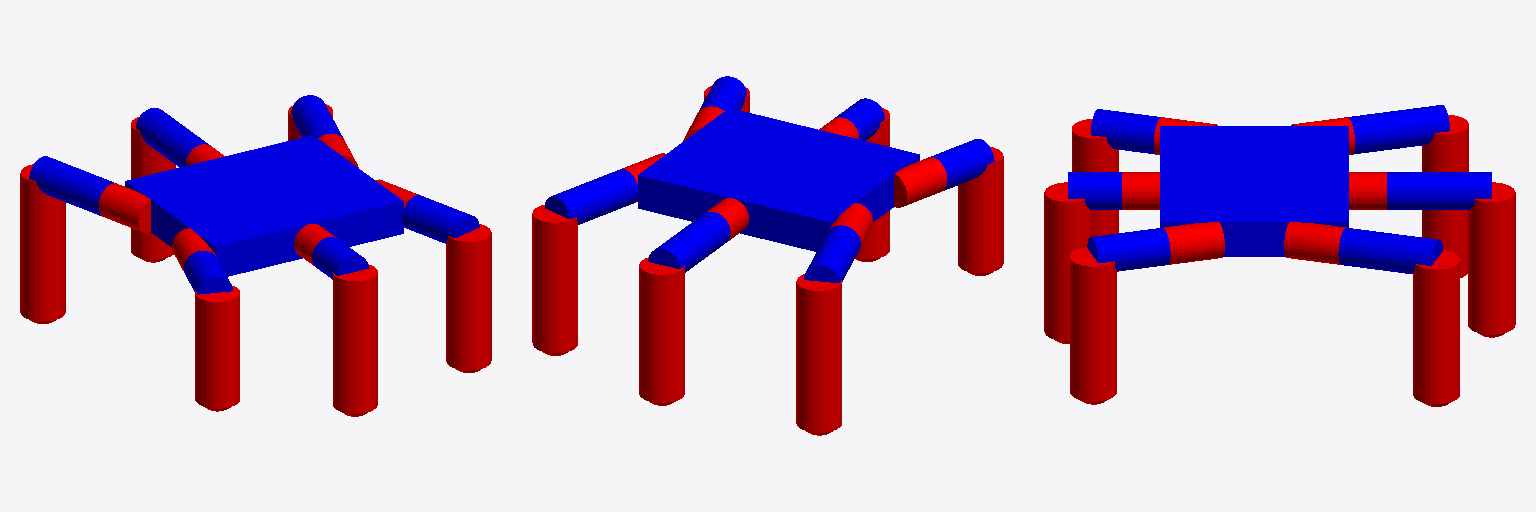
--- Facts derived from the render (not from the file) ---
The picture shows the robot from 3 angles, left to right: view 1: azimuth 30°, elevation 25°; view 2: azimuth 150°, elevation 25°; view 3: azimuth 270°, elevation 25°; orthographic projection.
Robot: pexod — 19 links, 18 joints (18 revolute); root link base_link; default pose: all joints at 0.
Visible links, largest first — view 1: base_link, leg_4_3, leg_3_3, leg_0_3, leg_5_3, leg_0_2, leg_3_2, leg_1_3, leg_1_2, leg_0_1, leg_4_2, leg_5_2 (+3 smaller); view 2: base_link, leg_0_3, leg_2_3, leg_1_3, leg_5_3, leg_2_2, leg_1_2, leg_0_2, leg_5_1, leg_5_2, leg_4_3, leg_4_2 (+3 smaller); view 3: base_link, leg_3_3, leg_2_3, leg_1_3, leg_4_3, leg_0_3, leg_1_2, leg_2_2, leg_0_2, leg_3_2, leg_5_3, leg_5_2 (+5 smaller).
Boxes of the visible links, x1=… form: base_link: x1=125, y1=135, x2=403, y2=276; leg_4_3: x1=333, y1=264, x2=377, y2=416; leg_3_3: x1=446, y1=224, x2=491, y2=372; leg_0_3: x1=20, y1=164, x2=65, y2=323; leg_5_3: x1=195, y1=286, x2=239, y2=411; leg_0_2: x1=29, y1=156, x2=116, y2=216; leg_3_2: x1=402, y1=195, x2=479, y2=243; leg_1_3: x1=131, y1=117, x2=175, y2=262; leg_1_2: x1=136, y1=108, x2=210, y2=167; leg_0_1: x1=99, y1=183, x2=150, y2=232; leg_4_2: x1=312, y1=237, x2=368, y2=279; leg_5_2: x1=184, y1=251, x2=232, y2=294; base_link: x1=638, y1=108, x2=919, y2=251; leg_0_3: x1=796, y1=274, x2=841, y2=435; leg_2_3: x1=532, y1=205, x2=577, y2=355; leg_1_3: x1=639, y1=257, x2=684, y2=405; leg_5_3: x1=958, y1=147, x2=1003, y2=275; leg_2_2: x1=545, y1=169, x2=638, y2=224; leg_1_2: x1=648, y1=212, x2=730, y2=272; leg_0_2: x1=804, y1=225, x2=860, y2=282; leg_5_1: x1=894, y1=157, x2=947, y2=207; leg_5_2: x1=928, y1=139, x2=994, y2=190; leg_4_3: x1=855, y1=107, x2=889, y2=261; leg_4_2: x1=835, y1=98, x2=884, y2=140; base_link: x1=1160, y1=126, x2=1348, y2=256; leg_3_3: x1=1070, y1=247, x2=1116, y2=404; leg_2_3: x1=1413, y1=250, x2=1459, y2=406; leg_1_3: x1=1468, y1=182, x2=1515, y2=337; leg_4_3: x1=1044, y1=182, x2=1091, y2=343; leg_0_3: x1=1422, y1=115, x2=1468, y2=277; leg_1_2: x1=1387, y1=172, x2=1491, y2=209; leg_2_2: x1=1338, y1=228, x2=1442, y2=273; leg_0_2: x1=1348, y1=105, x2=1449, y2=154; leg_3_2: x1=1087, y1=228, x2=1170, y2=271; leg_5_3: x1=1072, y1=119, x2=1118, y2=236; leg_5_2: x1=1091, y1=109, x2=1160, y2=154.
Bounding box of the posed robot: 0.3866 × 0.4965 × 0.2026 m (x, y, z).
Geometry: primitives only (box / cylinder / sphere), no mesh files.

robot.urdf — pexod:
<?xml version="1.0" ?>
<!-- =================================================================================== -->
<!-- |    This document was autogenerated by xacro from pexod.xacro                    | -->
<!-- |    EDITING THIS FILE BY HAND IS NOT RECOMMENDED                                 | -->
<!-- =================================================================================== -->
<robot name="pexod" xmlns:xacro="http://www.ros.org/wiki/xacro">
  <!-- <xacro:include filename="$(find pexod_description)/urdf/pexod_control.xacro" /> -->
  <!-- MATERIALS -->
  <material name="Blue">
    <color rgba="0 0 1 1"/>
  </material>
  <material name="Red">
    <color rgba="1 0 0 1"/>
  </material>
  <material name="Green">
    <color rgba="0 1 0 1"/>
  </material>
  <material name="Yellow">
    <color rgba="1 1 0 1"/>
  </material>
  <material name="LightGrey">
    <color rgba="0.6 0.6 0.6 1.0"/>
  </material>
  <!-- END OF MATERIALS -->
  <!-- XACRO MACROS FOR VISUALS AND COLLISIONS -->
  <!-- END OF XACRO MACROS -->
  <!-- TORSO -->
  <link name="base_link">
    <visual>
      <origin rpy="0 0 0" xyz="0 0 0"/>
      <geometry>
        <box size="0.24 0.2 0.04"/>
      </geometry>
      <material name="Blue"/>
    </visual>
    <collision>
      <origin rpy="0 0 0" xyz="0 0 0"/>
      <geometry>
        <box size="0.24 0.2 0.04"/>
      </geometry>
    </collision>
    <inertial>
      <!-- CENTER OF MASS -->
      <origin rpy="0 0 0" xyz="0 0 0"/>
      <mass value="1.031"/>
      <!-- box inertia: 1/12*m(y^2+z^2), ... -->
      <inertia ixx="0.00357413333333" ixy="0" ixz="0" iyy="0.00508626666667" iyz="0" izz="0.00838546666667"/>
    </inertial>
  </link>
  <!-- XACRO MACRO FOR LEGS LINKS/JOINTS -->
  <!-- END OF LEG LINKS/JOINTS -->
  <joint name="body_leg_2" type="revolute">
    <parent link="base_link"/>
    <child link="leg_2_1"/>
    <limit effort="30.0" lower="-1.57079632679" upper="1.57079632679" velocity="7.0"/>
    <origin rpy="0 0 -0.3" xyz="0.11 0.04 0"/>
    <!-- <xacro:if value="${index == 5 or index == 4 or index == 3}">
                <axis xyz="0 0 1"/>
            </xacro:if>
            <xacro:if value="${index == 2 or index == 1 or index == 0}"> -->
    <axis xyz="0 0 1"/>
    <!-- </xacro:if> -->
    <dynamics damping="0.0"/>
  </joint>
  <link name="leg_2_1">
    <visual>
      <origin rpy="1.57079632679 0 0" xyz="0.01 0.03 0"/>
      <geometry>
        <cylinder length="0.06" radius="0.02"/>
      </geometry>
      <material name="Red"/>
    </visual>
    <collision>
      <origin rpy="1.57079632679 0 0" xyz="0.01 0.03 0"/>
      <geometry>
        <box size="0.02 0.02 0.06"/>
      </geometry>
    </collision>
    <inertial>
      <!-- CENTER OF MASS -->
      <origin rpy="1.57079632679 0 0" xyz="0.01 0.03 0"/>
      <mass value="0.02"/>
      <!-- box inertia: 1/12*m(y^2+z^2), ... -->
      <inertia ixx="6.66666666667e-06" ixy="0" ixz="0" iyy="6.66666666667e-06" iyz="0" izz="1.33333333333e-06"/>
    </inertial>
  </link>
  <joint name="leg_2_1_2" type="revolute">
    <parent link="leg_2_1"/>
    <child link="leg_2_2"/>
    <limit effort="30.0" lower="-0.78539816339" upper="0.78539816339" velocity="7.0"/>
    <origin rpy="0 0 0" xyz="0 0.06 0"/>
    <axis xyz="1 0 0"/>
    <dynamics damping="0.0"/>
  </joint>
  <link name="leg_2_2">
    <visual>
      <origin rpy="1.57079632679 0 0" xyz="0.01 0.051471023519 0"/>
      <geometry>
        <cylinder length="0.102942047038" radius="0.02"/>
      </geometry>
      <material name="Blue"/>
    </visual>
    <collision>
      <origin rpy="1.57079632679 0 0" xyz="0.01 0.051471023519 0"/>
      <geometry>
        <box size="0.02 0.02 0.102942047038"/>
      </geometry>
    </collision>
    <inertial>
      <!-- CENTER OF MASS -->
      <origin rpy="1.57079632679 0 0" xyz="0.01 0.051471023519 0"/>
      <mass value="0.184"/>
      <!-- box inertia: 1/12*m(y^2+z^2), ... -->
      <inertia ixx="0.000168621664075" ixy="0" ixz="0" iyy="0.000168621664075" iyz="0" izz="1.22666666667e-05"/>
    </inertial>
  </link>
  <joint name="leg_2_2_3" type="revolute">
    <parent link="leg_2_2"/>
    <child link="leg_2_3"/>
    <limit effort="30.0" lower="-0.78539816339" upper="0.78539816339" velocity="7.0"/>
    <origin rpy="-1.57079632679 0 0" xyz="0 0.102942047038 0"/>
    <axis xyz="-1 0 0"/>
    <dynamics damping="0.0"/>
  </joint>
  <link name="leg_2_3">
    <visual>
      <origin rpy="1.57079632679 0 0" xyz="0.0125 0.078406626722 0"/>
      <geometry>
        <cylinder length="0.156813253444" radius="0.025"/>
      </geometry>
      <material name="Red"/>
    </visual>
    <visual>
      <origin rpy="1.57079632679 0 0" xyz="0.0125 0.144313253444 0"/>
      <geometry>
        <sphere radius="0.025"/>
      </geometry>
      <material name="Red"/>
    </visual>
    <collision>
      <origin rpy="1.57079632679 0 0" xyz="0.0125 0.078406626722 0"/>
      <geometry>
        <box size="0.025 0.025 0.156813253444"/>
      </geometry>
    </collision>
    <collision>
      <origin rpy="1.57079632679 0 0" xyz="0.0125 0.144313253444 0"/>
      <geometry>
        <sphere radius="0.025"/>
      </geometry>
      <material name="Red"/>
    </collision>
    <inertial>
      <!-- CENTER OF MASS -->
      <origin rpy="1.57079632679 0 0" xyz="0.0125 0.078406626722 0"/>
      <mass value="0.04"/>
      <!-- box inertia: 1/12*m(y^2+z^2), ... -->
      <inertia ixx="8.4051321519e-05" ixy="0" ixz="0" iyy="8.4051321519e-05" iyz="0" izz="4.16666666667e-06"/>
    </inertial>
  </link>
  <joint name="body_leg_3" type="revolute">
    <parent link="base_link"/>
    <child link="leg_3_1"/>
    <limit effort="30.0" lower="-1.57079632679" upper="1.57079632679" velocity="7.0"/>
    <origin rpy="0 0 0.3" xyz="0.11 -0.04 0"/>
    <!-- <xacro:if value="${index == 5 or index == 4 or index == 3}">
                <axis xyz="0 0 1"/>
            </xacro:if>
            <xacro:if value="${index == 2 or index == 1 or index == 0}"> -->
    <axis xyz="0 0 1"/>
    <!-- </xacro:if> -->
    <dynamics damping="0.0"/>
  </joint>
  <link name="leg_3_1">
    <visual>
      <origin rpy="1.57079632679 0 0" xyz="0.01 -0.03 0"/>
      <geometry>
        <cylinder length="0.06" radius="0.02"/>
      </geometry>
      <material name="Red"/>
    </visual>
    <collision>
      <origin rpy="1.57079632679 0 0" xyz="0.01 -0.03 0"/>
      <geometry>
        <box size="0.02 0.02 0.06"/>
      </geometry>
    </collision>
    <inertial>
      <!-- CENTER OF MASS -->
      <origin rpy="1.57079632679 0 0" xyz="0.01 -0.03 0"/>
      <mass value="0.02"/>
      <!-- box inertia: 1/12*m(y^2+z^2), ... -->
      <inertia ixx="6.66666666667e-06" ixy="0" ixz="0" iyy="6.66666666667e-06" iyz="0" izz="1.33333333333e-06"/>
    </inertial>
  </link>
  <joint name="leg_3_1_2" type="revolute">
    <parent link="leg_3_1"/>
    <child link="leg_3_2"/>
    <limit effort="30.0" lower="-0.78539816339" upper="0.78539816339" velocity="7.0"/>
    <origin rpy="0 0 0" xyz="0 -0.06 0"/>
    <axis xyz="-1 0 0"/>
    <dynamics damping="0.0"/>
  </joint>
  <link name="leg_3_2">
    <visual>
      <origin rpy="1.57079632679 0 0" xyz="0.01 -0.0397913816512 0"/>
      <geometry>
        <cylinder length="0.0795827633024" radius="0.02"/>
      </geometry>
      <material name="Blue"/>
    </visual>
    <collision>
      <origin rpy="1.57079632679 0 0" xyz="0.01 -0.0397913816512 0"/>
      <geometry>
        <box size="0.02 0.02 0.0795827633024"/>
      </geometry>
    </collision>
    <inertial>
      <!-- CENTER OF MASS -->
      <origin rpy="1.57079632679 0 0" xyz="0.01 -0.0397913816512 0"/>
      <mass value="0.184"/>
      <!-- box inertia: 1/12*m(y^2+z^2), ... -->
      <inertia ixx="0.000103245715294" ixy="0" ixz="0" iyy="0.000103245715294" iyz="0" izz="1.22666666667e-05"/>
    </inertial>
  </link>
  <joint name="leg_3_2_3" type="revolute">
    <parent link="leg_3_2"/>
    <child link="leg_3_3"/>
    <limit effort="30.0" lower="-0.78539816339" upper="0.78539816339" velocity="7.0"/>
    <origin rpy="1.57079632679 0 0" xyz="0 -0.0795827633024 0"/>
    <axis xyz="1 0 0"/>
    <dynamics damping="0.0"/>
  </joint>
  <link name="leg_3_3">
    <visual>
      <origin rpy="1.57079632679 0 0" xyz="0.0125 -0.0785187571795 0"/>
      <geometry>
        <cylinder length="0.157037514359" radius="0.025"/>
      </geometry>
      <material name="Red"/>
    </visual>
    <visual>
      <origin rpy="1.57079632679 0 0" xyz="0.0125 -0.144537514359 0"/>
      <geometry>
        <sphere radius="0.025"/>
      </geometry>
      <material name="Red"/>
    </visual>
    <collision>
      <origin rpy="1.57079632679 0 0" xyz="0.0125 -0.0785187571795 0"/>
      <geometry>
        <box size="0.025 0.025 0.157037514359"/>
      </geometry>
    </collision>
    <collision>
      <origin rpy="1.57079632679 0 0" xyz="0.0125 -0.144537514359 0"/>
      <geometry>
        <sphere radius="0.025"/>
      </geometry>
      <material name="Red"/>
    </collision>
    <inertial>
      <!-- CENTER OF MASS -->
      <origin rpy="1.57079632679 0 0" xyz="0.0125 -0.0785187571795 0"/>
      <mass value="0.04"/>
      <!-- box inertia: 1/12*m(y^2+z^2), ... -->
      <inertia ixx="8.42859363868e-05" ixy="0" ixz="0" iyy="8.42859363868e-05" iyz="0" izz="4.16666666667e-06"/>
    </inertial>
  </link>
  <joint name="body_leg_0" type="revolute">
    <parent link="base_link"/>
    <child link="leg_0_1"/>
    <limit effort="30.0" lower="-1.57079632679" upper="1.57079632679" velocity="7.0"/>
    <origin rpy="0 0 0.3" xyz="-0.13 0.04 0"/>
    <!-- <xacro:if value="${index == 5 or index == 4 or index == 3}">
                <axis xyz="0 0 1"/>
            </xacro:if>
            <xacro:if value="${index == 2 or index == 1 or index == 0}"> -->
    <axis xyz="0 0 1"/>
    <!-- </xacro:if> -->
    <dynamics damping="0.0"/>
  </joint>
  <link name="leg_0_1">
    <visual>
      <origin rpy="1.57079632679 0 0" xyz="0.01 0.03 0"/>
      <geometry>
        <cylinder length="0.06" radius="0.02"/>
      </geometry>
      <material name="Red"/>
    </visual>
    <collision>
      <origin rpy="1.57079632679 0 0" xyz="0.01 0.03 0"/>
      <geometry>
        <box size="0.02 0.02 0.06"/>
      </geometry>
    </collision>
    <inertial>
      <!-- CENTER OF MASS -->
      <origin rpy="1.57079632679 0 0" xyz="0.01 0.03 0"/>
      <mass value="0.02"/>
      <!-- box inertia: 1/12*m(y^2+z^2), ... -->
      <inertia ixx="6.66666666667e-06" ixy="0" ixz="0" iyy="6.66666666667e-06" iyz="0" izz="1.33333333333e-06"/>
    </inertial>
  </link>
  <joint name="leg_0_1_2" type="revolute">
    <parent link="leg_0_1"/>
    <child link="leg_0_2"/>
    <limit effort="30.0" lower="-0.78539816339" upper="0.78539816339" velocity="7.0"/>
    <origin rpy="0 0 0" xyz="0 0.06 0"/>
    <axis xyz="1 0 0"/>
    <dynamics damping="0.0"/>
  </joint>
  <link name="leg_0_2">
    <visual>
      <origin rpy="1.57079632679 0 0" xyz="0.01 0.0522850968405 0"/>
      <geometry>
        <cylinder length="0.104570193681" radius="0.02"/>
      </geometry>
      <material name="Blue"/>
    </visual>
    <collision>
      <origin rpy="1.57079632679 0 0" xyz="0.01 0.0522850968405 0"/>
      <geometry>
        <box size="0.02 0.02 0.104570193681"/>
      </geometry>
    </collision>
    <inertial>
      <!-- CENTER OF MASS -->
      <origin rpy="1.57079632679 0 0" xyz="0.01 0.0522850968405 0"/>
      <mass value="0.184"/>
      <!-- box inertia: 1/12*m(y^2+z^2), ... -->
      <inertia ixx="0.000173802189566" ixy="0" ixz="0" iyy="0.000173802189566" iyz="0" izz="1.22666666667e-05"/>
    </inertial>
  </link>
  <joint name="leg_0_2_3" type="revolute">
    <parent link="leg_0_2"/>
    <child link="leg_0_3"/>
    <limit effort="30.0" lower="-0.78539816339" upper="0.78539816339" velocity="7.0"/>
    <origin rpy="-1.57079632679 0 0" xyz="0 0.104570193681 0"/>
    <axis xyz="-1 0 0"/>
    <dynamics damping="0.0"/>
  </joint>
  <link name="leg_0_3">
    <visual>
      <origin rpy="1.57079632679 0 0" xyz="0.0125 0.085059741456 0"/>
      <geometry>
        <cylinder length="0.170119482912" radius="0.025"/>
      </geometry>
      <material name="Red"/>
    </visual>
    <visual>
      <origin rpy="1.57079632679 0 0" xyz="0.0125 0.157619482912 0"/>
      <geometry>
        <sphere radius="0.025"/>
      </geometry>
      <material name="Red"/>
    </visual>
    <collision>
      <origin rpy="1.57079632679 0 0" xyz="0.0125 0.085059741456 0"/>
      <geometry>
        <box size="0.025 0.025 0.170119482912"/>
      </geometry>
    </collision>
    <collision>
      <origin rpy="1.57079632679 0 0" xyz="0.0125 0.157619482912 0"/>
      <geometry>
        <sphere radius="0.025"/>
      </geometry>
      <material name="Red"/>
    </collision>
    <inertial>
      <!-- CENTER OF MASS -->
      <origin rpy="1.57079632679 0 0" xyz="0.0125 0.085059741456 0"/>
      <mass value="0.04"/>
      <!-- box inertia: 1/12*m(y^2+z^2), ... -->
      <inertia ixx="9.85521282208e-05" ixy="0" ixz="0" iyy="9.85521282208e-05" iyz="0" izz="4.16666666667e-06"/>
    </inertial>
  </link>
  <joint name="body_leg_5" type="revolute">
    <parent link="base_link"/>
    <child link="leg_5_1"/>
    <limit effort="30.0" lower="-1.57079632679" upper="1.57079632679" velocity="7.0"/>
    <origin rpy="0 0 -0.3" xyz="-0.13 -0.04 0"/>
    <!-- <xacro:if value="${index == 5 or index == 4 or index == 3}">
                <axis xyz="0 0 1"/>
            </xacro:if>
            <xacro:if value="${index == 2 or index == 1 or index == 0}"> -->
    <axis xyz="0 0 1"/>
    <!-- </xacro:if> -->
    <dynamics damping="0.0"/>
  </joint>
  <link name="leg_5_1">
    <visual>
      <origin rpy="1.57079632679 0 0" xyz="0.01 -0.03 0"/>
      <geometry>
        <cylinder length="0.06" radius="0.02"/>
      </geometry>
      <material name="Red"/>
    </visual>
    <collision>
      <origin rpy="1.57079632679 0 0" xyz="0.01 -0.03 0"/>
      <geometry>
        <box size="0.02 0.02 0.06"/>
      </geometry>
    </collision>
    <inertial>
      <!-- CENTER OF MASS -->
      <origin rpy="1.57079632679 0 0" xyz="0.01 -0.03 0"/>
      <mass value="0.02"/>
      <!-- box inertia: 1/12*m(y^2+z^2), ... -->
      <inertia ixx="6.66666666667e-06" ixy="0" ixz="0" iyy="6.66666666667e-06" iyz="0" izz="1.33333333333e-06"/>
    </inertial>
  </link>
  <joint name="leg_5_1_2" type="revolute">
    <parent link="leg_5_1"/>
    <child link="leg_5_2"/>
    <limit effort="30.0" lower="-0.78539816339" upper="0.78539816339" velocity="7.0"/>
    <origin rpy="0 0 0" xyz="0 -0.06 0"/>
    <axis xyz="-1 0 0"/>
    <dynamics damping="0.0"/>
  </joint>
  <link name="leg_5_2">
    <visual>
      <origin rpy="1.57079632679 0 0" xyz="0.01 -0.0349068496924 0"/>
      <geometry>
        <cylinder length="0.0698136993849" radius="0.02"/>
      </geometry>
      <material name="Blue"/>
    </visual>
    <collision>
      <origin rpy="1.57079632679 0 0" xyz="0.01 -0.0349068496924 0"/>
      <geometry>
        <box size="0.02 0.02 0.0698136993849"/>
      </geometry>
    </collision>
    <inertial>
      <!-- CENTER OF MASS -->
      <origin rpy="1.57079632679 0 0" xyz="0.01 -0.0349068496924 0"/>
      <mass value="0.184"/>
      <!-- box inertia: 1/12*m(y^2+z^2), ... -->
      <inertia ixx="8.08672735343e-05" ixy="0" ixz="0" iyy="8.08672735343e-05" iyz="0" izz="1.22666666667e-05"/>
    </inertial>
  </link>
  <joint name="leg_5_2_3" type="revolute">
    <parent link="leg_5_2"/>
    <child link="leg_5_3"/>
    <limit effort="30.0" lower="-0.78539816339" upper="0.78539816339" velocity="7.0"/>
    <origin rpy="1.57079632679 0 0" xyz="0 -0.0698136993849 0"/>
    <axis xyz="1 0 0"/>
    <dynamics damping="0.0"/>
  </joint>
  <link name="leg_5_3">
    <visual>
      <origin rpy="1.57079632679 0 0" xyz="0.0125 -0.064959873293 0"/>
      <geometry>
        <cylinder length="0.129919746586" radius="0.025"/>
      </geometry>
      <material name="Red"/>
    </visual>
    <visual>
      <origin rpy="1.57079632679 0 0" xyz="0.0125 -0.117419746586 0"/>
      <geometry>
        <sphere radius="0.025"/>
      </geometry>
      <material name="Red"/>
    </visual>
    <collision>
      <origin rpy="1.57079632679 0 0" xyz="0.0125 -0.064959873293 0"/>
      <geometry>
        <box size="0.025 0.025 0.129919746586"/>
      </geometry>
    </collision>
    <collision>
      <origin rpy="1.57079632679 0 0" xyz="0.0125 -0.117419746586 0"/>
      <geometry>
        <sphere radius="0.025"/>
      </geometry>
      <material name="Red"/>
    </collision>
    <inertial>
      <!-- CENTER OF MASS -->
      <origin rpy="1.57079632679 0 0" xyz="0.0125 -0.064959873293 0"/>
      <mass value="0.04"/>
      <!-- box inertia: 1/12*m(y^2+z^2), ... -->
      <inertia ixx="5.83471351766e-05" ixy="0" ixz="0" iyy="5.83471351766e-05" iyz="0" izz="4.16666666667e-06"/>
    </inertial>
  </link>
  <joint name="body_leg_1" type="revolute">
    <parent link="base_link"/>
    <child link="leg_1_1"/>
    <limit effort="30.0" lower="-1.57079632679" upper="1.57079632679" velocity="7.0"/>
    <origin rpy="0 0 0" xyz="-0.01 0.08 0"/>
    <!-- <xacro:if value="${index == 5 or index == 4 or index == 3}">
                <axis xyz="0 0 1"/>
            </xacro:if>
            <xacro:if value="${index == 2 or index == 1 or index == 0}"> -->
    <axis xyz="0 0 1"/>
    <!-- </xacro:if> -->
    <dynamics damping="0.0"/>
  </joint>
  <link name="leg_1_1">
    <visual>
      <origin rpy="1.57079632679 0 0" xyz="0.01 0.03 0"/>
      <geometry>
        <cylinder length="0.06" radius="0.02"/>
      </geometry>
      <material name="Red"/>
    </visual>
    <collision>
      <origin rpy="1.57079632679 0 0" xyz="0.01 0.03 0"/>
      <geometry>
        <box size="0.02 0.02 0.06"/>
      </geometry>
    </collision>
    <inertial>
      <!-- CENTER OF MASS -->
      <origin rpy="1.57079632679 0 0" xyz="0.01 0.03 0"/>
      <mass value="0.02"/>
      <!-- box inertia: 1/12*m(y^2+z^2), ... -->
      <inertia ixx="6.66666666667e-06" ixy="0" ixz="0" iyy="6.66666666667e-06" iyz="0" izz="1.33333333333e-06"/>
    </inertial>
  </link>
  <joint name="leg_1_1_2" type="revolute">
    <parent link="leg_1_1"/>
    <child link="leg_1_2"/>
    <limit effort="30.0" lower="-0.78539816339" upper="0.78539816339" velocity="7.0"/>
    <origin rpy="0 0 0" xyz="0 0.06 0"/>
    <axis xyz="1 0 0"/>
    <dynamics damping="0.0"/>
  </joint>
  <link name="leg_1_2">
    <visual>
      <origin rpy="1.57079632679 0 0" xyz="0.01 0.0550609872615 0"/>
      <geometry>
        <cylinder length="0.110121974523" radius="0.02"/>
      </geometry>
      <material name="Blue"/>
    </visual>
    <collision>
      <origin rpy="1.57079632679 0 0" xyz="0.01 0.0550609872615 0"/>
      <geometry>
        <box size="0.02 0.02 0.110121974523"/>
      </geometry>
    </collision>
    <inertial>
      <!-- CENTER OF MASS -->
      <origin rpy="1.57079632679 0 0" xyz="0.01 0.0550609872615 0"/>
      <mass value="0.184"/>
      <!-- box inertia: 1/12*m(y^2+z^2), ... -->
      <inertia ixx="0.000192078355517" ixy="0" ixz="0" iyy="0.000192078355517" iyz="0" izz="1.22666666667e-05"/>
    </inertial>
  </link>
  <joint name="leg_1_2_3" type="revolute">
    <parent link="leg_1_2"/>
    <child link="leg_1_3"/>
    <limit effort="30.0" lower="-0.78539816339" upper="0.78539816339" velocity="7.0"/>
    <origin rpy="-1.57079632679 0 0" xyz="0 0.110121974523 0"/>
    <axis xyz="-1 0 0"/>
    <dynamics damping="0.0"/>
  </joint>
  <link name="leg_1_3">
    <visual>
      <origin rpy="1.57079632679 0 0" xyz="0.0125 0.077030946074 0"/>
      <geometry>
        <cylinder length="0.154061892148" radius="0.025"/>
      </geometry>
      <material name="Red"/>
    </visual>
    <visual>
      <origin rpy="1.57079632679 0 0" xyz="0.0125 0.141561892148 0"/>
      <geometry>
        <sphere radius="0.025"/>
      </geometry>
      <material name="Red"/>
    </visual>
    <collision>
      <origin rpy="1.57079632679 0 0" xyz="0.0125 0.077030946074 0"/>
      <geometry>
        <box size="0.025 0.025 0.154061892148"/>
      </geometry>
    </collision>
    <collision>
      <origin rpy="1.57079632679 0 0" xyz="0.0125 0.141561892148 0"/>
      <geometry>
        <sphere radius="0.025"/>
      </geometry>
      <material name="Red"/>
    </collision>
    <inertial>
      <!-- CENTER OF MASS -->
      <origin rpy="1.57079632679 0 0" xyz="0.0125 0.077030946074 0"/>
      <mass value="0.04"/>
      <!-- box inertia: 1/12*m(y^2+z^2), ... -->
      <inertia ixx="8.12002220407e-05" ixy="0" ixz="0" iyy="8.12002220407e-05" iyz="0" izz="4.16666666667e-06"/>
    </inertial>
  </link>
  <joint name="body_leg_4" type="revolute">
    <parent link="base_link"/>
    <child link="leg_4_1"/>
    <limit effort="30.0" lower="-1.57079632679" upper="1.57079632679" velocity="7.0"/>
    <origin rpy="0 0 0" xyz="-0.01 -0.08 0"/>
    <!-- <xacro:if value="${index == 5 or index == 4 or index == 3}">
                <axis xyz="0 0 1"/>
            </xacro:if>
            <xacro:if value="${index == 2 or index == 1 or index == 0}"> -->
    <axis xyz="0 0 1"/>
    <!-- </xacro:if> -->
    <dynamics damping="0.0"/>
  </joint>
  <link name="leg_4_1">
    <visual>
      <origin rpy="1.57079632679 0 0" xyz="0.01 -0.03 0"/>
      <geometry>
        <cylinder length="0.06" radius="0.02"/>
      </geometry>
      <material name="Red"/>
    </visual>
    <collision>
      <origin rpy="1.57079632679 0 0" xyz="0.01 -0.03 0"/>
      <geometry>
        <box size="0.02 0.02 0.06"/>
      </geometry>
    </collision>
    <inertial>
      <!-- CENTER OF MASS -->
      <origin rpy="1.57079632679 0 0" xyz="0.01 -0.03 0"/>
      <mass value="0.02"/>
      <!-- box inertia: 1/12*m(y^2+z^2), ... -->
      <inertia ixx="6.66666666667e-06" ixy="0" ixz="0" iyy="6.66666666667e-06" iyz="0" izz="1.33333333333e-06"/>
    </inertial>
  </link>
  <joint name="leg_4_1_2" type="revolute">
    <parent link="leg_4_1"/>
    <child link="leg_4_2"/>
    <limit effort="30.0" lower="-0.78539816339" upper="0.78539816339" velocity="7.0"/>
    <origin rpy="0 0 0" xyz="0 -0.06 0"/>
    <axis xyz="-1 0 0"/>
    <dynamics damping="0.0"/>
  </joint>
  <link name="leg_4_2">
    <visual>
      <origin rpy="1.57079632679 0 0" xyz="0.01 -0.0281956007492 0"/>
      <geometry>
        <cylinder length="0.0563912014984" radius="0.02"/>
      </geometry>
      <material name="Blue"/>
    </visual>
    <collision>
      <origin rpy="1.57079632679 0 0" xyz="0.01 -0.0281956007492 0"/>
      <geometry>
        <box size="0.02 0.02 0.0563912014984"/>
      </geometry>
    </collision>
    <inertial>
      <!-- CENTER OF MASS -->
      <origin rpy="1.57079632679 0 0" xyz="0.01 -0.0281956007492 0"/>
      <mass value="0.184"/>
      <!-- box inertia: 1/12*m(y^2+z^2), ... -->
      <inertia ixx="5.4892836632e-05" ixy="0" ixz="0" iyy="5.4892836632e-05" iyz="0" izz="1.22666666667e-05"/>
    </inertial>
  </link>
  <joint name="leg_4_2_3" type="revolute">
    <parent link="leg_4_2"/>
    <child link="leg_4_3"/>
    <limit effort="30.0" lower="-0.78539816339" upper="0.78539816339" velocity="7.0"/>
    <origin rpy="1.57079632679 0 0" xyz="0 -0.0563912014984 0"/>
    <axis xyz="1 0 0"/>
    <dynamics damping="0.0"/>
  </joint>
  <link name="leg_4_3">
    <visual>
      <origin rpy="1.57079632679 0 0" xyz="0.0125 -0.080931150599 0"/>
      <geometry>
        <cylinder length="0.161862301198" radius="0.025"/>
      </geometry>
      <material name="Red"/>
    </visual>
    <visual>
      <origin rpy="1.57079632679 0 0" xyz="0.0125 -0.149362301198 0"/>
      <geometry>
        <sphere radius="0.025"/>
      </geometry>
      <material name="Red"/>
    </visual>
    <collision>
      <origin rpy="1.57079632679 0 0" xyz="0.0125 -0.080931150599 0"/>
      <geometry>
        <box size="0.025 0.025 0.161862301198"/>
      </geometry>
    </collision>
    <collision>
      <origin rpy="1.57079632679 0 0" xyz="0.0125 -0.149362301198 0"/>
      <geometry>
        <sphere radius="0.025"/>
      </geometry>
      <material name="Red"/>
    </collision>
    <inertial>
      <!-- CENTER OF MASS -->
      <origin rpy="1.57079632679 0 0" xyz="0.0125 -0.080931150599 0"/>
      <mass value="0.04"/>
      <!-- box inertia: 1/12*m(y^2+z^2), ... -->
      <inertia ixx="8.94146818304e-05" ixy="0" ixz="0" iyy="8.94146818304e-05" iyz="0" izz="4.16666666667e-06"/>
    </inertial>
  </link>
  <!-- END OF LEG LINKS/JOINTS -->
</robot>
